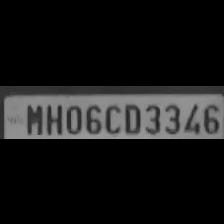0: (64, 102, 82, 134)
3: (142, 101, 162, 133), (162, 100, 180, 134)
4: (182, 100, 200, 132)
6: (82, 102, 102, 134), (201, 100, 219, 134)
C: (102, 101, 120, 133)
D: (122, 100, 142, 134)
H: (44, 102, 62, 134)
M: (22, 102, 44, 134)
